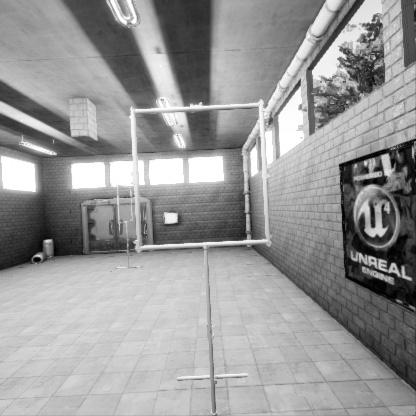gate: (132, 170, 283, 321), (116, 194, 132, 233)
